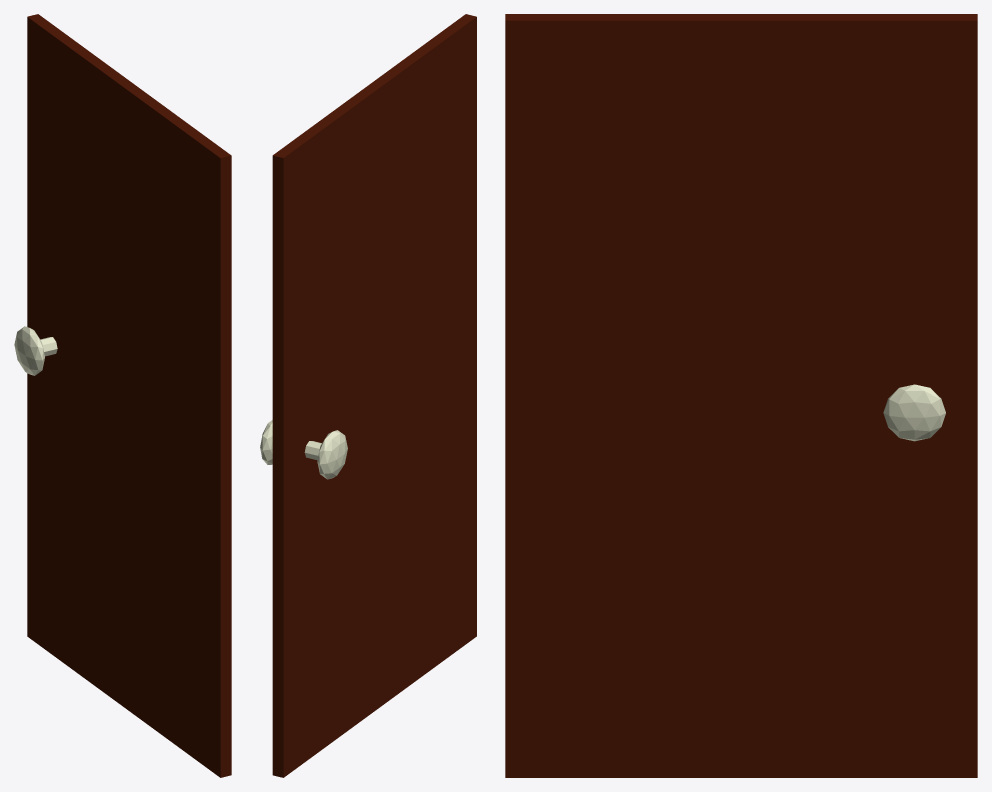
File: PreEnterDoor.fbx
3 renders of one model, left to right at view 1: azimuth 30°, elevation 25°; view 2: azimuth 150°, elevation 25°; view 3: azimuth 270°, elevation 25°, orthographic. The views are drawn at different scales.
Visible parts, largest first — view 1: Cube.003; view 2: Cube.003; view 3: Cube.003.
Part boxes in pixels (x1=…): Cube.003: x1=14, y1=14, x2=231, y2=777; Cube.003: x1=260, y1=14, x2=476, y2=777; Cube.003: x1=505, y1=14, x2=977, y2=777.
Size of the model in its own units: 22.94 by 185 by 105.
